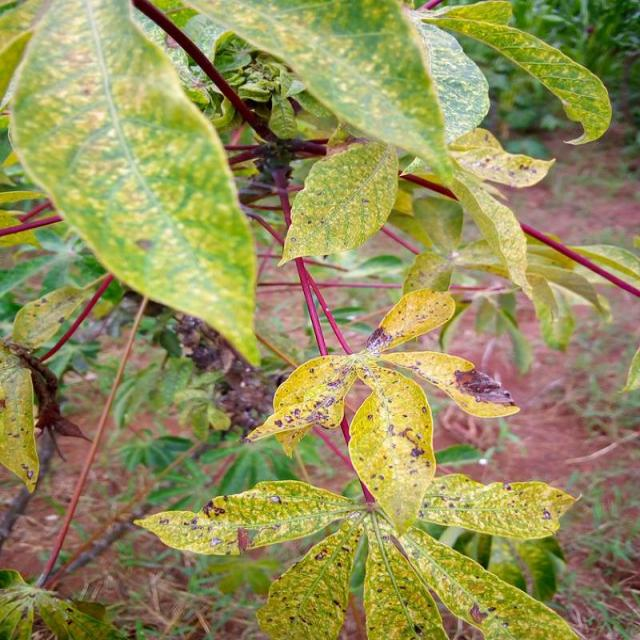cassava leaf: (133, 286, 582, 638), (7, 0, 262, 368), (276, 138, 399, 268)
